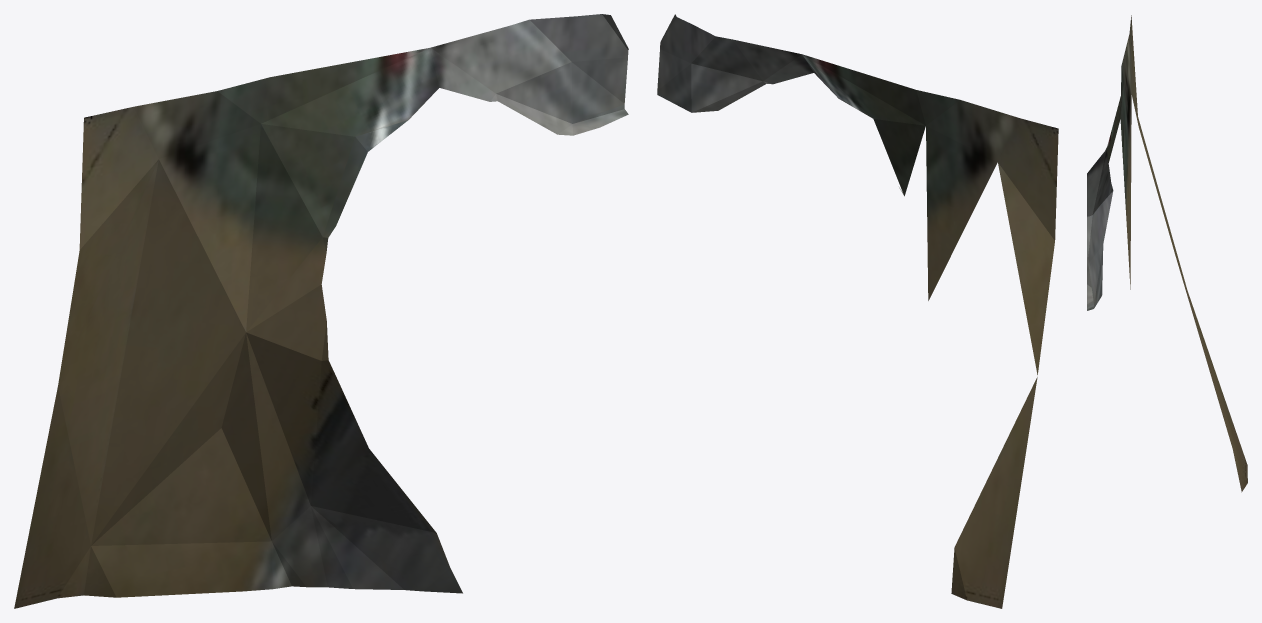
3 views of the same model, side by side, from view 1: azimuth 30°, elevation 25°; view 2: azimuth 150°, elevation 25°; view 3: azimuth 270°, elevation 25° (orthographic). The views are drawn at different scales.
Size of the model in its own units: 1.67 by 1.67 by 0.54.
2 materials, 2 textured.
